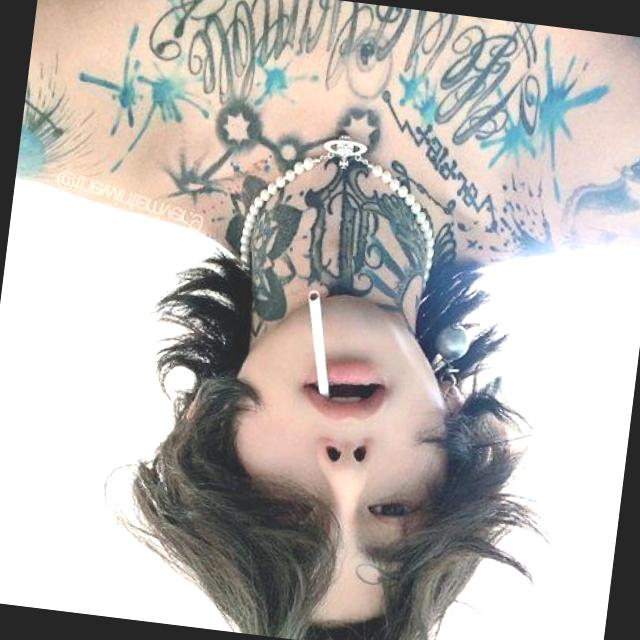smoke: (280, 268, 359, 417)
